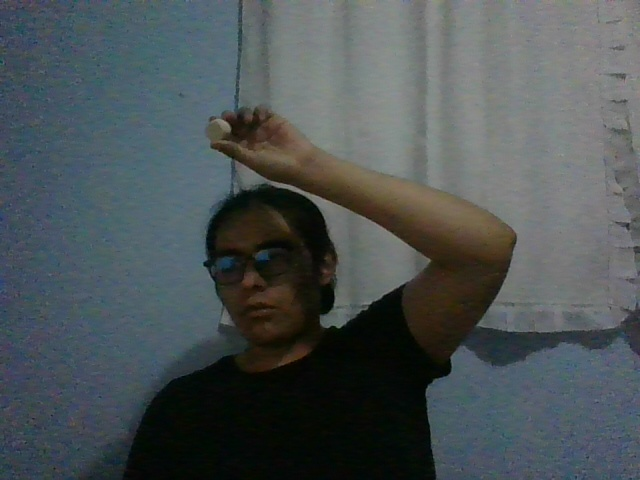goma: (205, 118, 232, 141)
